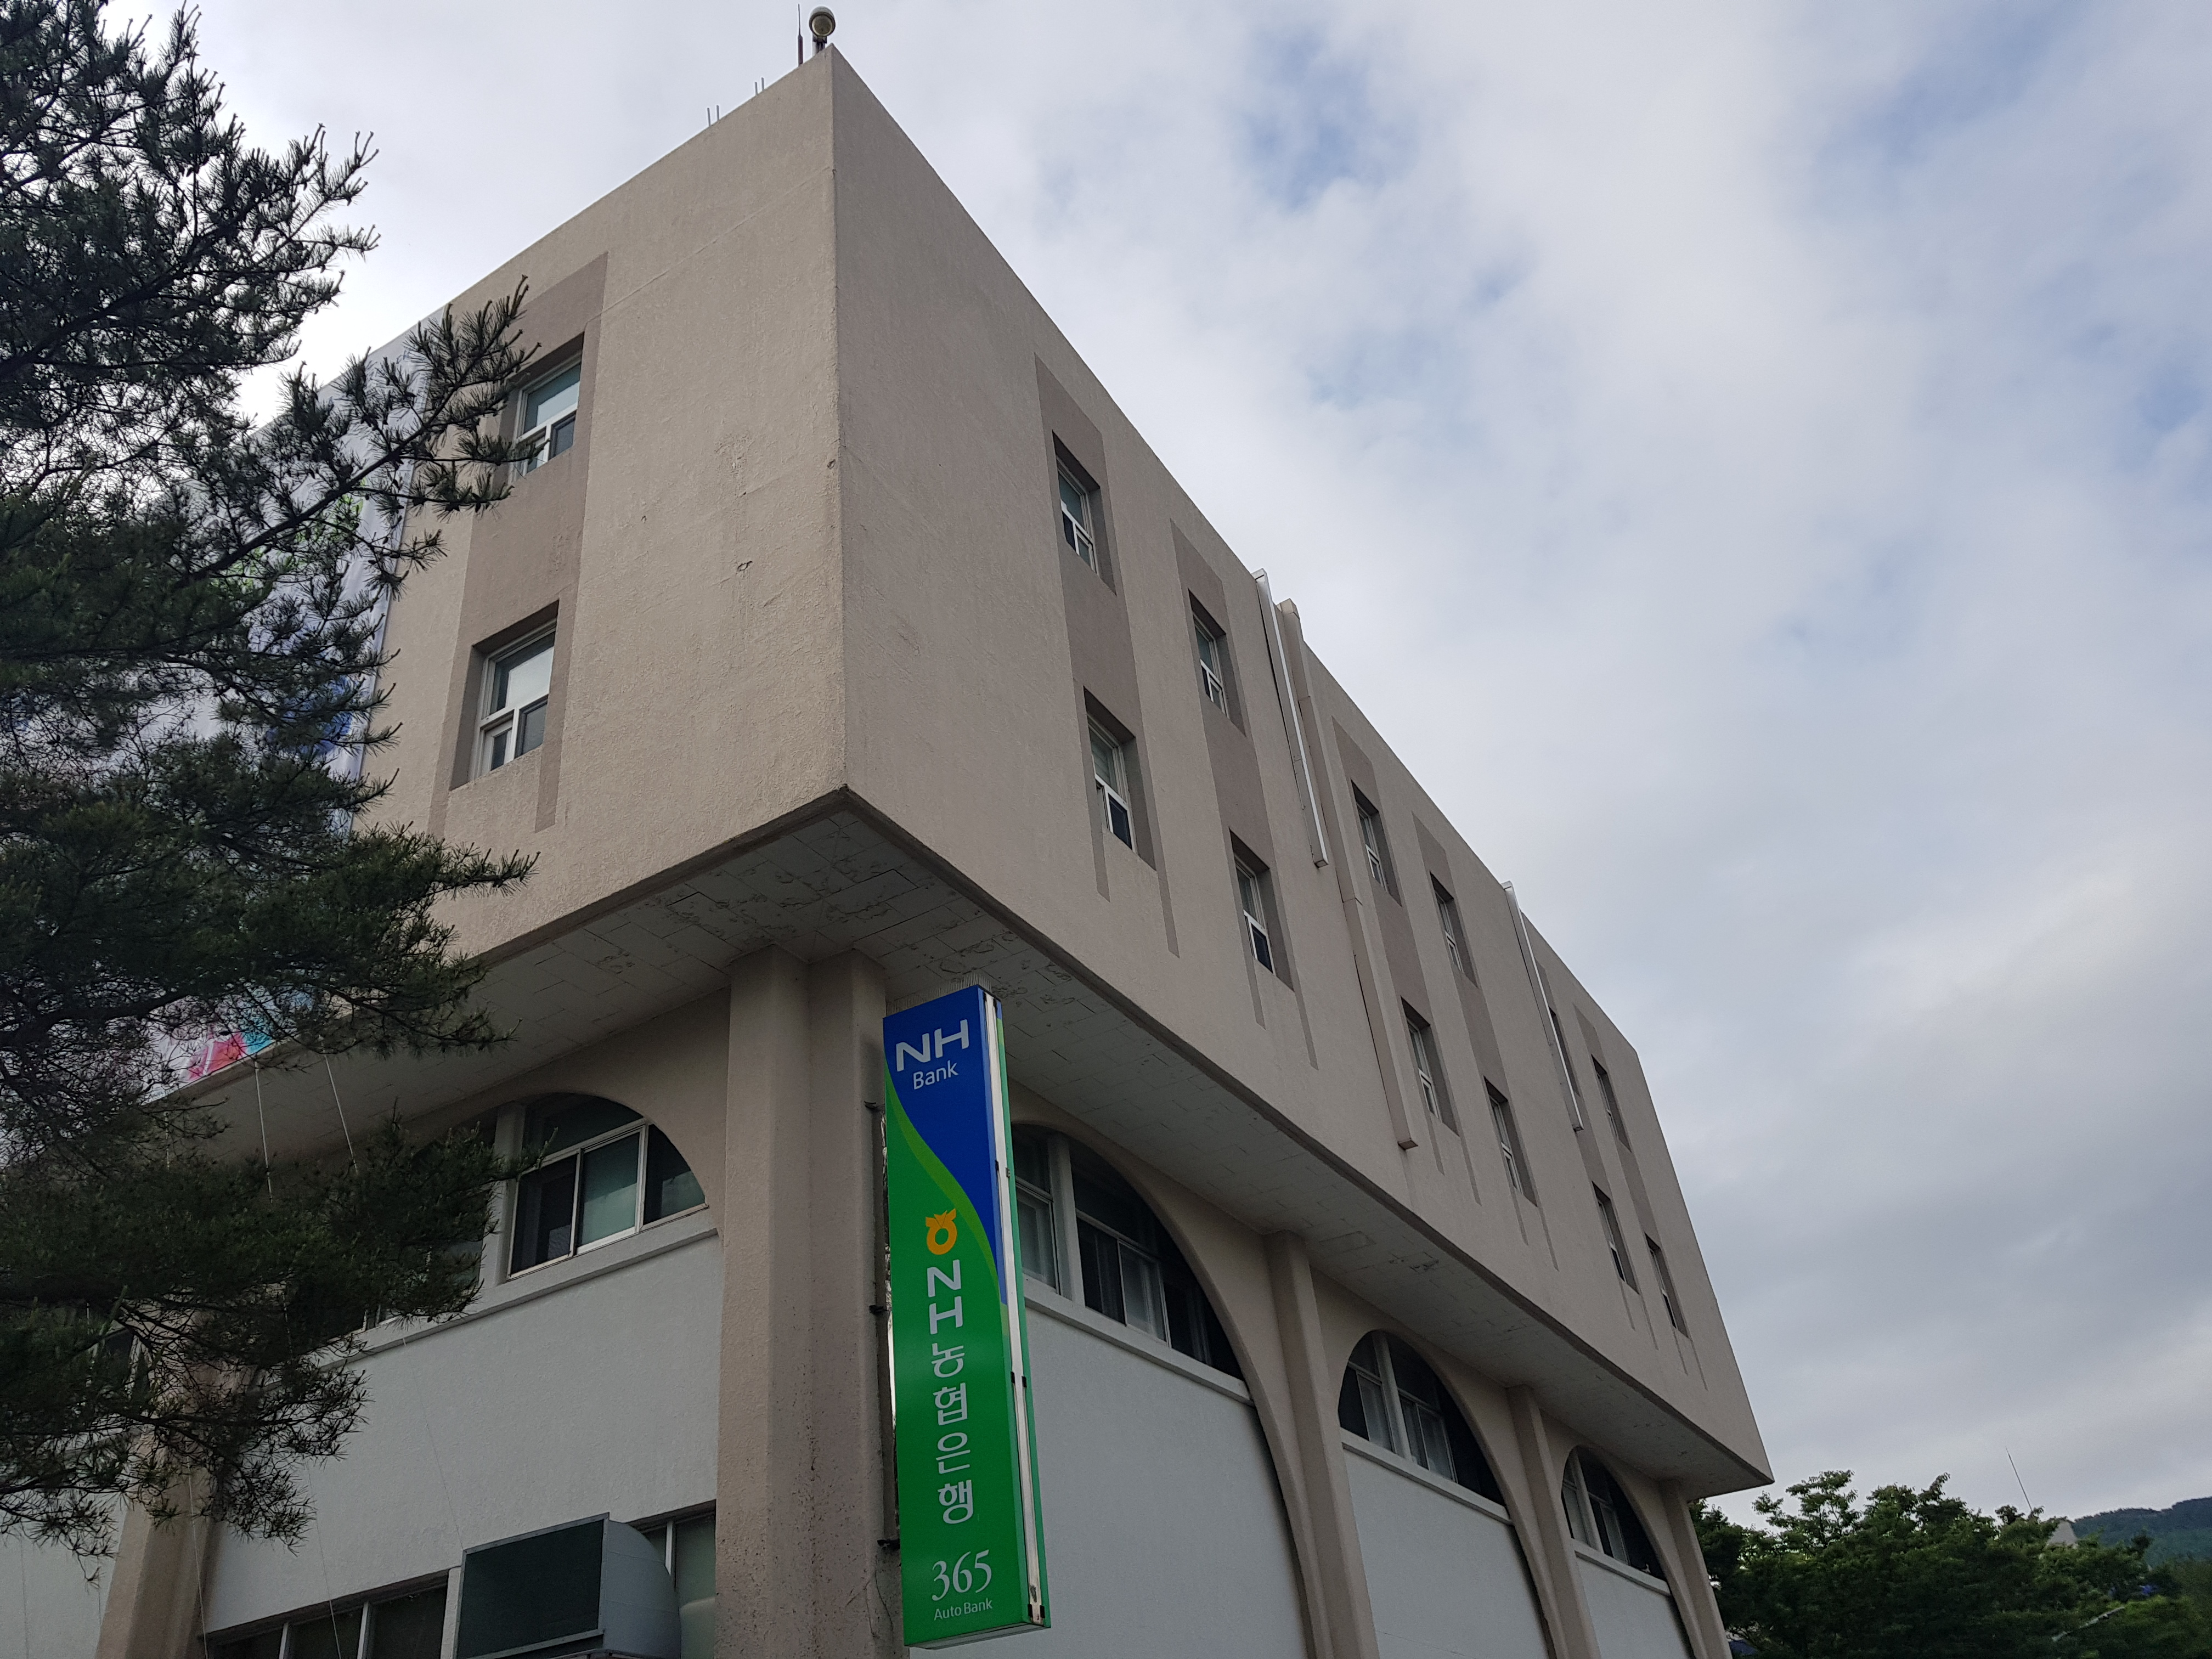Main Building of University: (190, 143, 1782, 1633), (805, 929, 1075, 1638)
